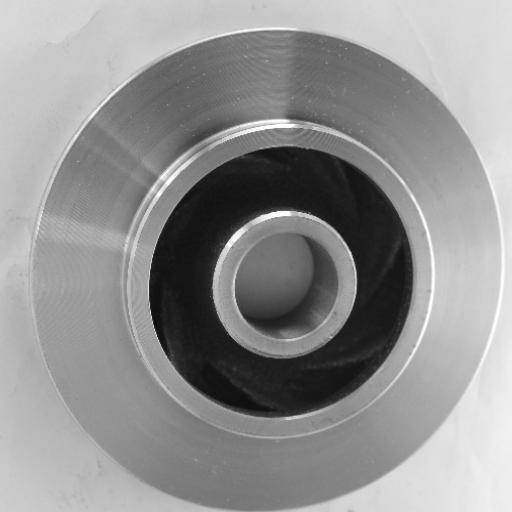polished_casting: (29, 26, 503, 512)
